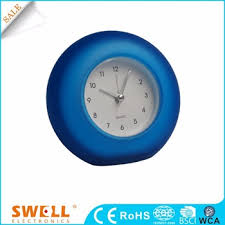alarm_clock: (45, 24, 183, 165)
